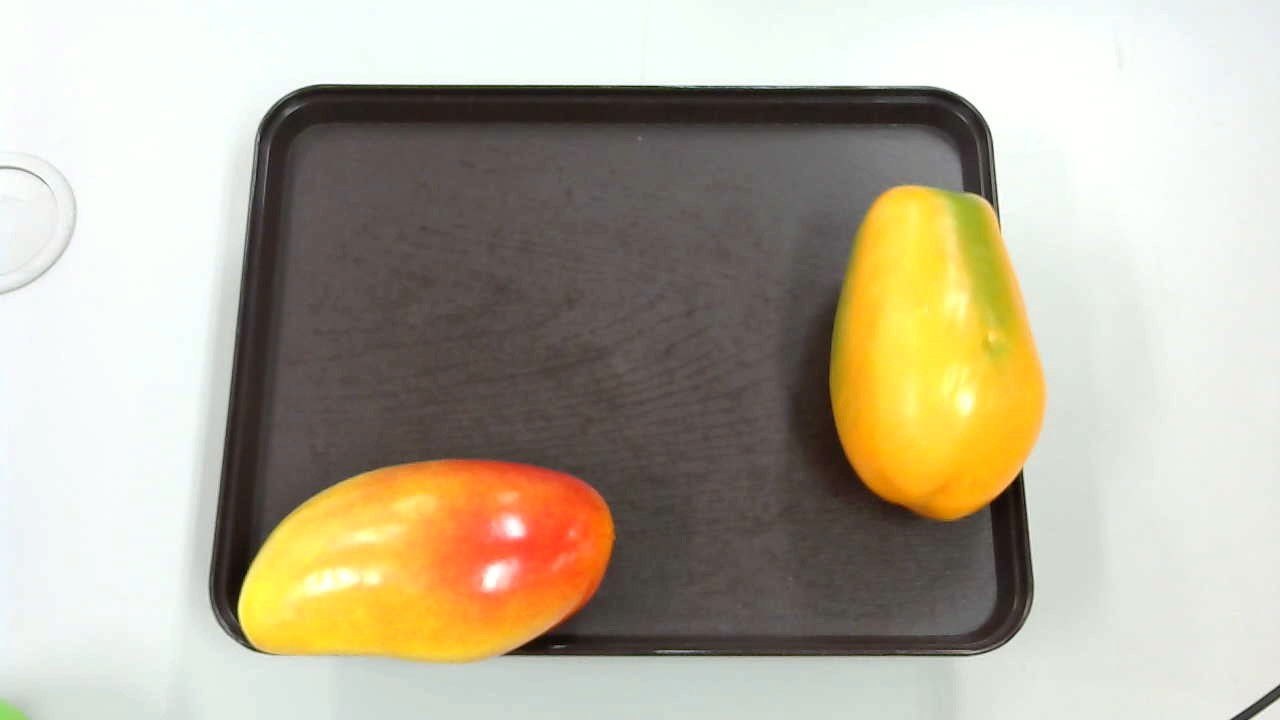papya: (823, 176, 1044, 520)
red mango: (238, 460, 624, 662)
